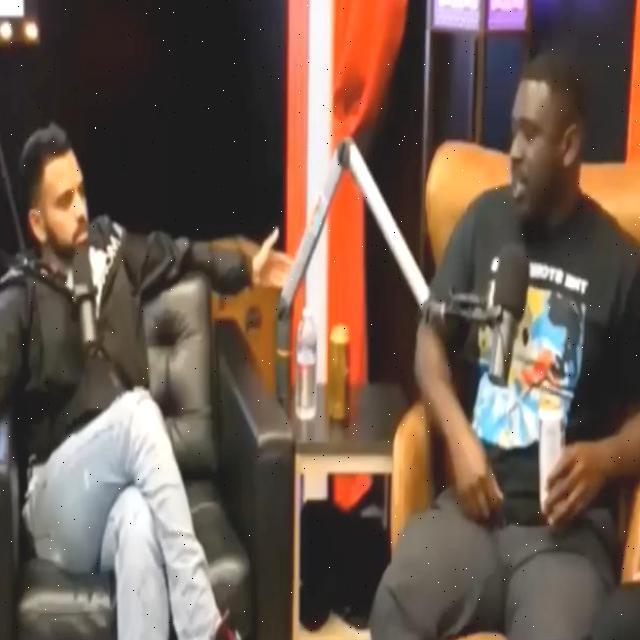person: (374, 67, 640, 640), (0, 139, 214, 640)
